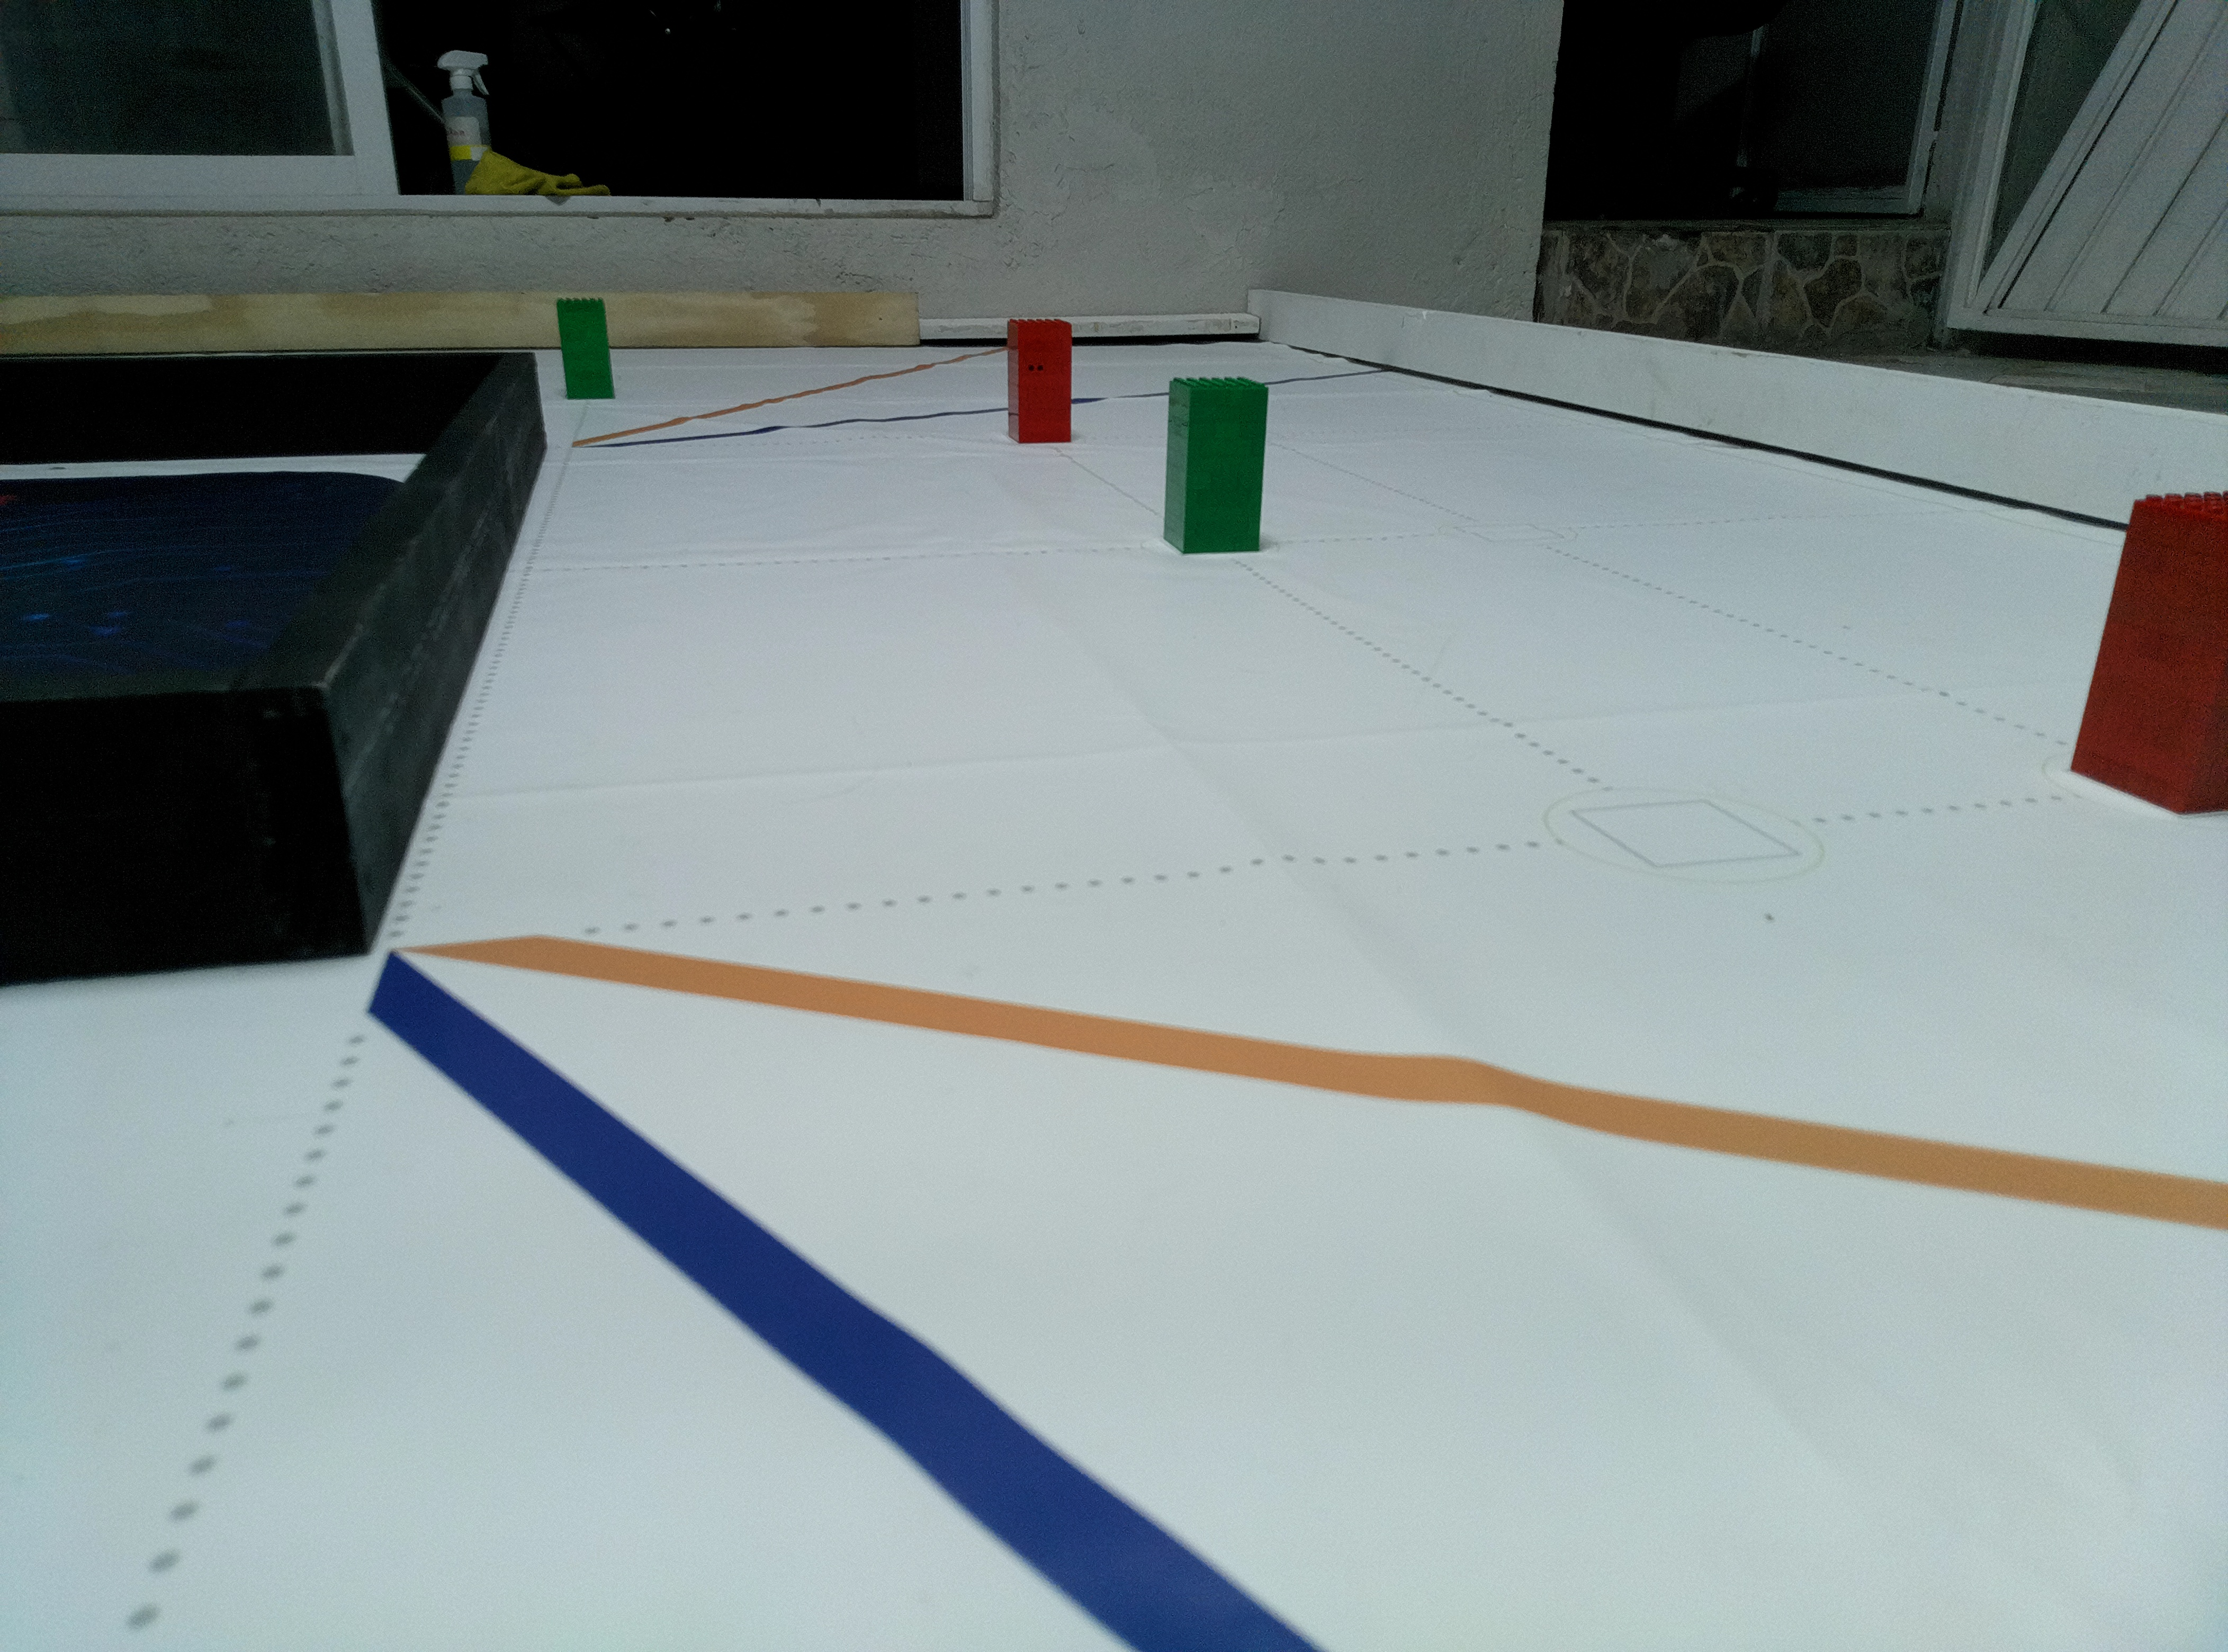greenbox: (1159, 370, 1276, 558), (554, 296, 613, 398)
redbox: (2071, 484, 2225, 820), (1002, 318, 1073, 442)
